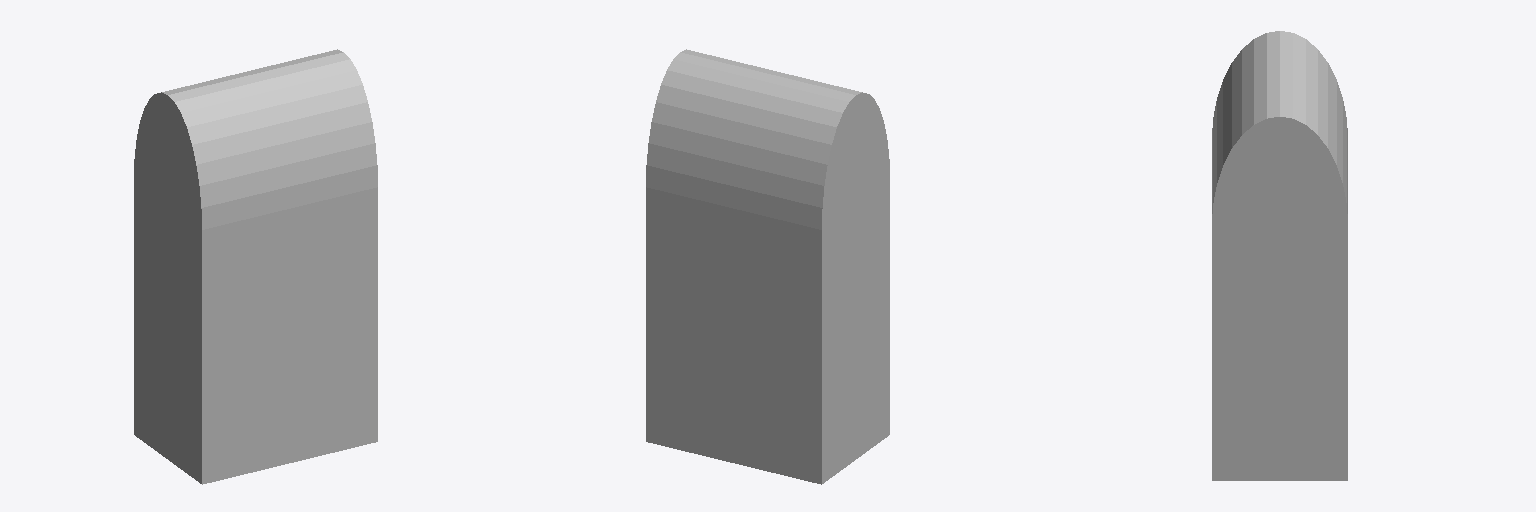
File: body_l_dist_spring2vround2_collision.obj
3 renders of one model, left to right at view 1: azimuth 30°, elevation 25°; view 2: azimuth 150°, elevation 25°; view 3: azimuth 270°, elevation 25°, orthographic.
Visible parts, largest first — view 1: body_l_dist_spring2vround2_collision_Cube.215; view 2: body_l_dist_spring2vround2_collision_Cube.215; view 3: body_l_dist_spring2vround2_collision_Cube.215.
Part boxes in pixels (x1,y1,x2,y2): body_l_dist_spring2vround2_collision_Cube.215: (134,49,377,484); body_l_dist_spring2vround2_collision_Cube.215: (646,49,889,484); body_l_dist_spring2vround2_collision_Cube.215: (1212,31,1347,480).
Bounding box in the file's own units: 0.032 × 0.0633 × 0.0215.